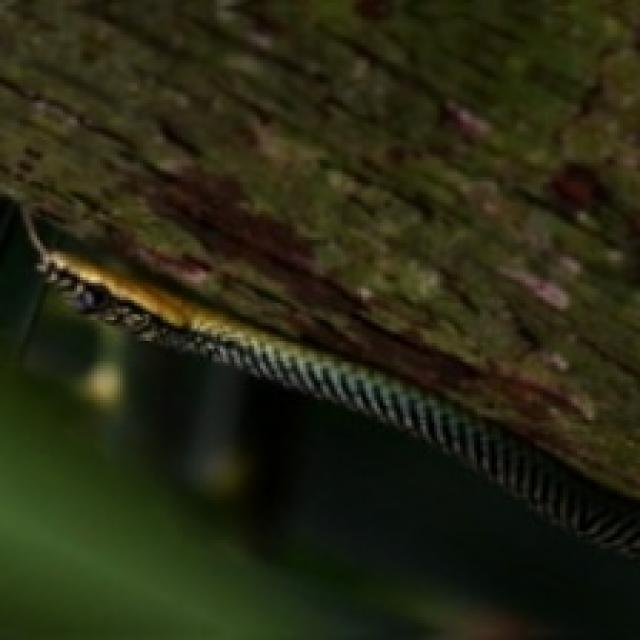paradise tree snake: (0, 200, 637, 637), (0, 211, 637, 560)
